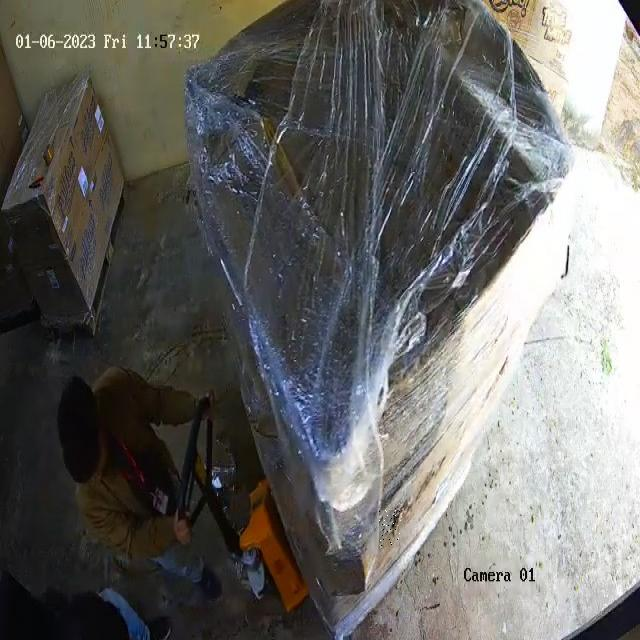leakage: (379, 510, 404, 546)
